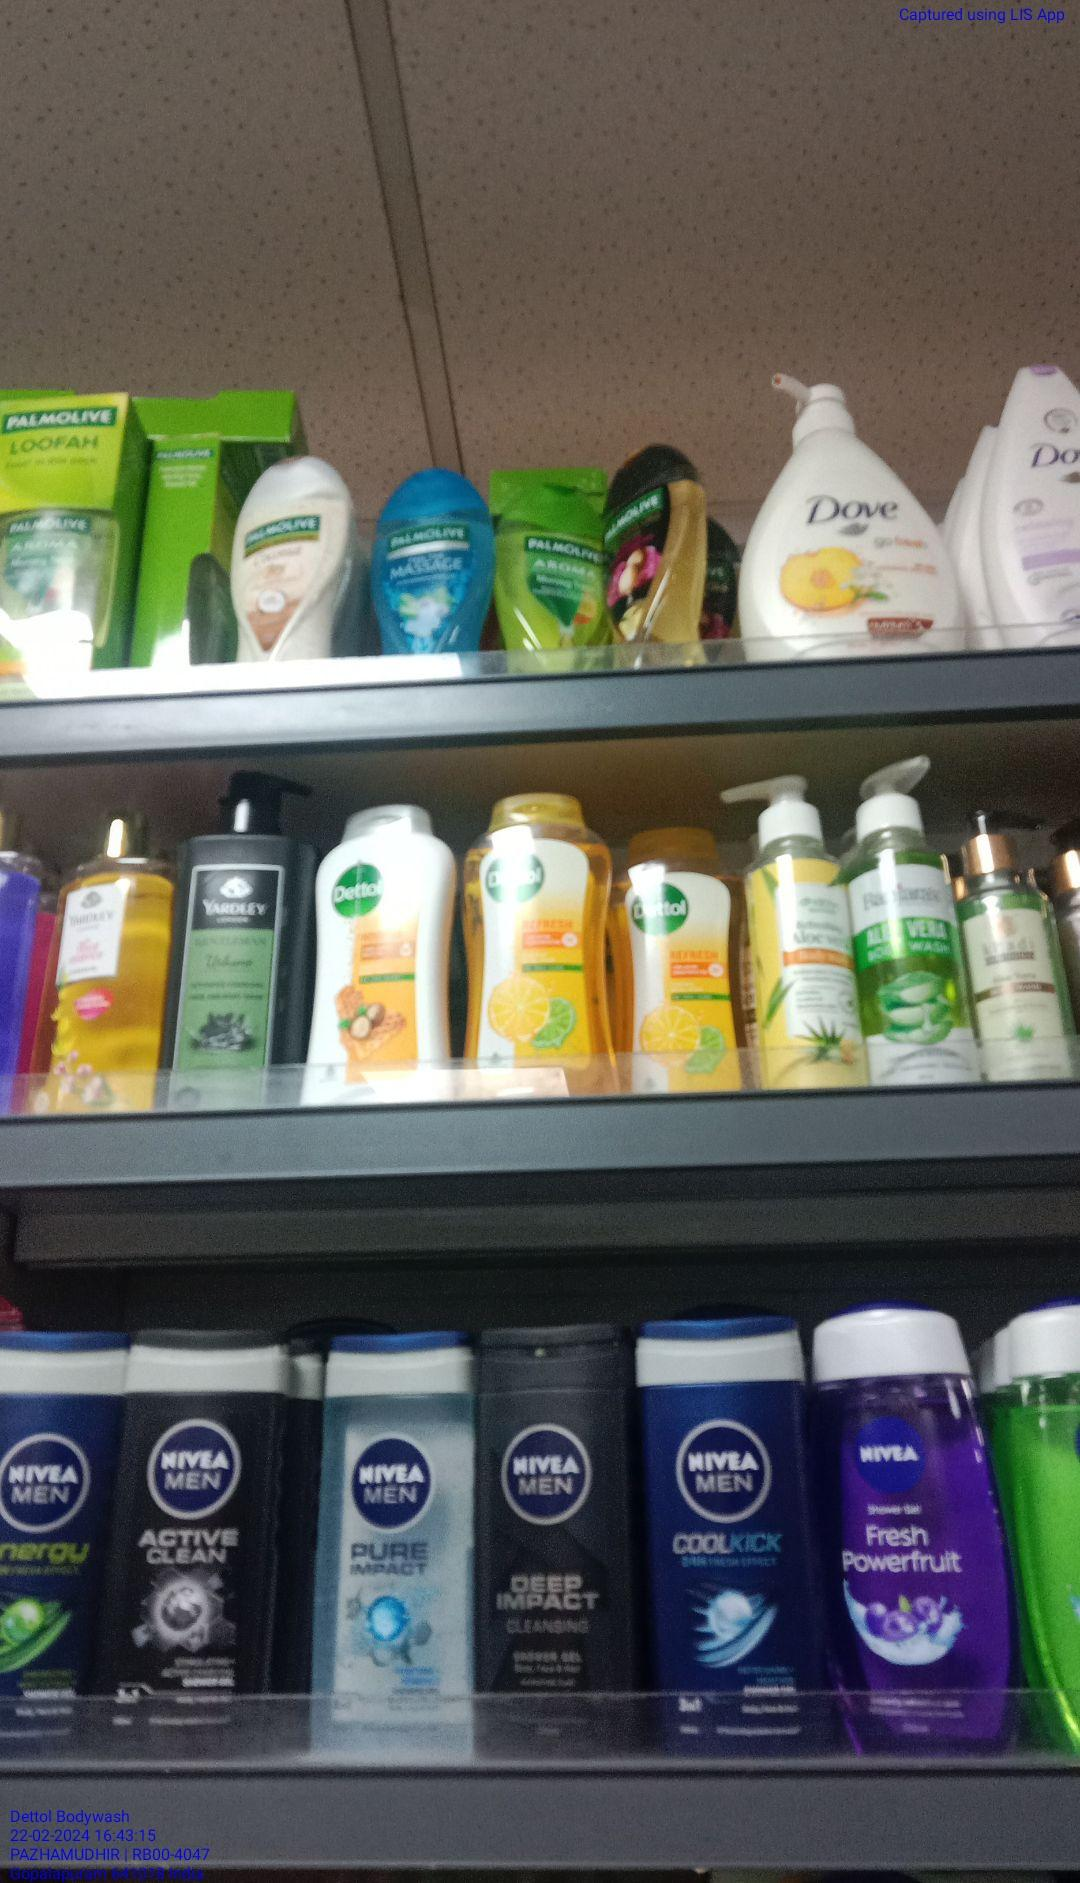Dettol_Bodywash_Cool: (226, 469, 357, 672)
Dettol_Bodywash_Refresh: (471, 795, 621, 1090), (626, 825, 748, 1095)
Dettol_Nourish_Body_Wash_250ML: (307, 810, 446, 1110)
Palmolive_Aroma_Moments_Feel_The_Massage_Shower_Gel_250ML: (367, 454, 498, 651)
